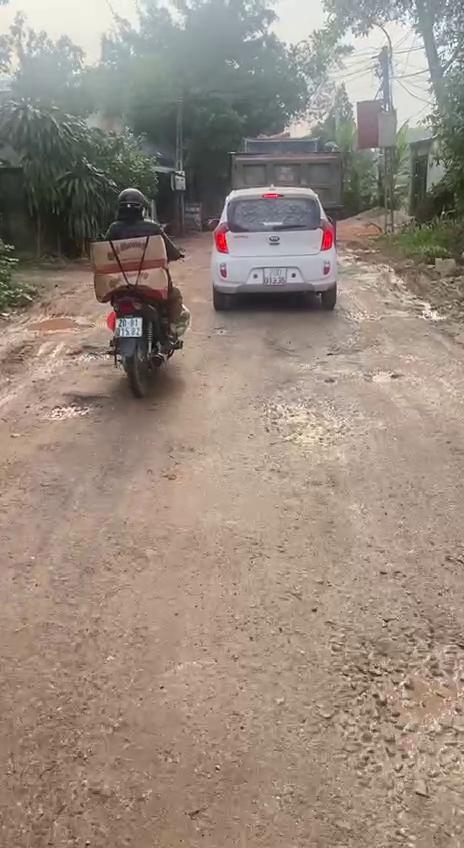pothole: (331, 618, 464, 782)
